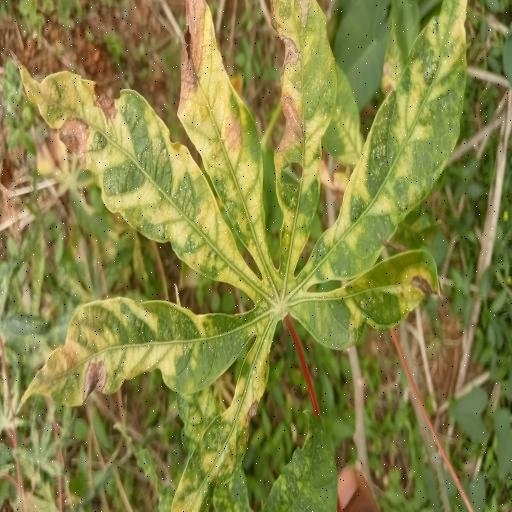Cassava_Brown_Leaf_Spot: (9, 0, 471, 512)
